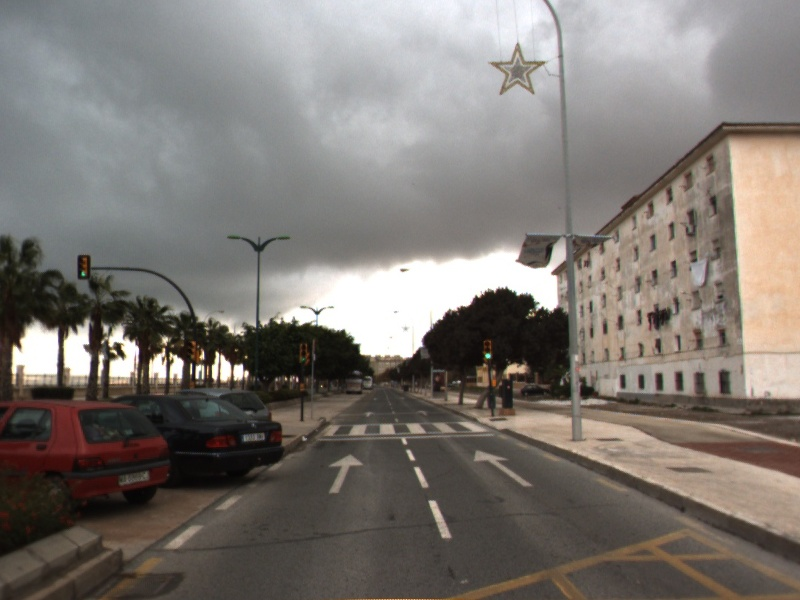STRAIGHT: (472, 448, 535, 488), (326, 452, 366, 495)
